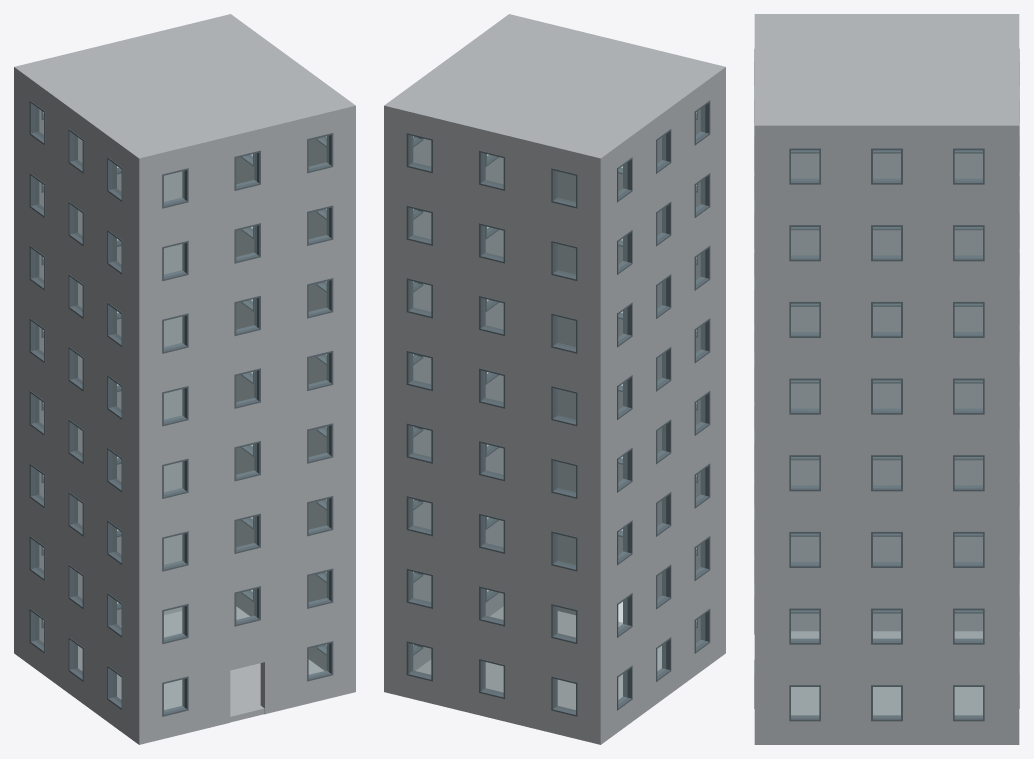
The model's file is block_8_lod1.glb.
3 renders of one model, left to right at view 1: azimuth 30°, elevation 25°; view 2: azimuth 150°, elevation 25°; view 3: azimuth 270°, elevation 25°, orthographic. The views are drawn at different scales.
Parts seen in each view (by area): view 1: Wall_0 baked, Wall_3 baked, Ceiling baked, Wall_1 baked, Wall_2 baked, Floor baked, Glazing.006 baked, Glazing.021 baked, Glazing baked, Glazing.002 baked, Glazing.008 baked, Glazing.009 baked (+17 smaller); view 2: Wall_1 baked, Wall_3 baked, Ceiling baked, Wall_0 baked, Wall_2 baked, Floor baked, Glazing.030 baked, Glazing.045 baked, Glazing.025 baked, Glazing.028 baked, Glazing.033 baked, Glazing.034 baked (+18 smaller); view 3: Wall_2 baked, Ceiling baked, Wall_3 baked, Wall_0 baked, Wall_1 baked, Floor baked, Glazing.047 baked, Glazing.048 baked, Glazing.049 baked, Glazing.050 baked, Glazing.051 baked, Glazing.052 baked (+18 smaller).
Boxes of the visible parts, <box> form: Wall_0 baked: <box>134,111,355,744</box>; Wall_3 baked: <box>18,76,134,741</box>; Ceiling baked: <box>14,14,355,163</box>; Wall_1 baked: <box>14,73,182,655</box>; Wall_2 baked: <box>236,139,326,670</box>; Floor baked: <box>78,606,323,722</box>; Glazing.006 baked: <box>236,516,256,549</box>; Glazing.021 baked: <box>236,153,256,186</box>; Glazing baked: <box>164,679,184,712</box>; Glazing.002 baked: <box>164,607,184,639</box>; Glazing.008 baked: <box>164,461,184,494</box>; Glazing.009 baked: <box>236,444,256,476</box>; Wall_1 baked: <box>384,111,605,744</box>; Wall_3 baked: <box>605,76,721,741</box>; Ceiling baked: <box>384,14,725,163</box>; Wall_0 baked: <box>557,73,725,655</box>; Wall_2 baked: <box>413,139,503,670</box>; Floor baked: <box>416,606,661,709</box>; Glazing.030 baked: <box>483,516,503,549</box>; Glazing.045 baked: <box>483,153,503,186</box>; Glazing.025 baked: <box>555,679,575,712</box>; Glazing.028 baked: <box>555,607,575,639</box>; Glazing.033 baked: <box>483,444,503,476</box>; Glazing.034 baked: <box>555,461,575,494</box>; Wall_2 baked: <box>764,131,1009,744</box>; Ceiling baked: <box>754,14,1019,131</box>; Wall_3 baked: <box>791,153,982,631</box>; Wall_0 baked: <box>754,131,763,744</box>; Wall_1 baked: <box>1010,131,1019,744</box>; Floor baked: <box>791,631,982,715</box>; Glazing.047 baked: <box>791,687,818,717</box>; Glazing.048 baked: <box>873,687,900,717</box>; Glazing.049 baked: <box>955,687,982,717</box>; Glazing.050 baked: <box>791,610,818,640</box>; Glazing.051 baked: <box>873,610,900,640</box>; Glazing.052 baked: <box>955,610,982,640</box>.
Size of the model in its own units: 10.05 by 25.85 by 10.05.
